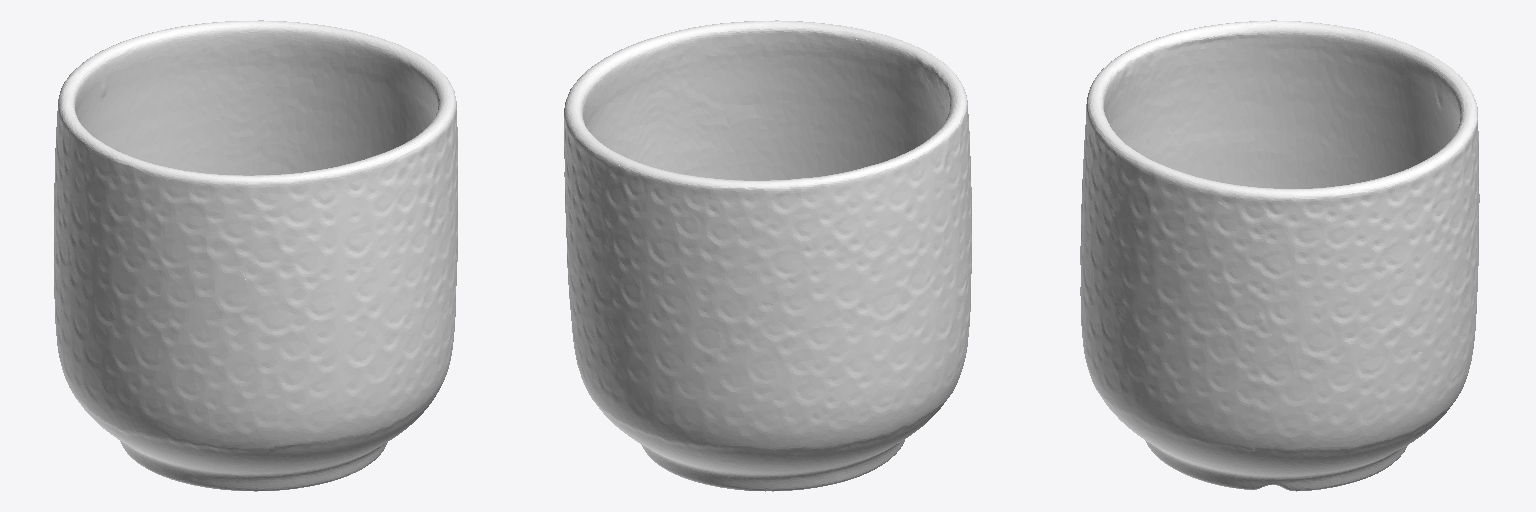
URDF robot description (model.urdf):
<robot name="model.urdf">
    <link name="baseLink">
        <contact>
            <lateral_friction value="0.48"/>
            <rolling_friction value="1"/>
            <spinning_friction value="1"/>
            <contact_cfm value="0.0"/>
            <contact_erp value="1.0"/>
        </contact>
        <inertial>
            <origin rpy="0 0.01 0" xyz="0.00 0.00 0.0"/>
            <mass value="1.7"/>
            <inertia ixx="1e-3" ixy="0" ixz="0" iyy="1e-3" iyz="0" izz="1e-3"/>
        </inertial>
        <visual>
            <geometry>
                <mesh filename="nontextured.stl" scale="1 1 1"/>
            </geometry>
            <material name="white">
                <color rgba="1 1 1 1"/>
            </material>
        </visual>
        <collision>
            <geometry>
                <mesh filename="nontextured.stl" scale="1 1 1"/>
            </geometry>
        </collision>
    </link>
</robot>

--- What the picture shows (computed from the rendered views, not written in the file) ---
The picture shows the robot from 3 angles, left to right: view 1: azimuth 30°, elevation 25°; view 2: azimuth 150°, elevation 25°; view 3: azimuth 270°, elevation 25°; orthographic projection.
Robot: model.urdf — 1 links, 0 joints (none); root link baseLink; default pose: every joint at zero.
Visible links, largest first — view 1: baseLink; view 2: baseLink; view 3: baseLink.
Boxes of the visible links, x1=… form: baseLink: x1=54, y1=20, x2=457, y2=491; baseLink: x1=564, y1=20, x2=971, y2=491; baseLink: x1=1080, y1=20, x2=1479, y2=491.
Size in the robot's own frame: 0.1388 by 0.1368 by 0.1289 metres.
1 mesh visuals loaded from 1 distinct referenced files (1 binary STL).